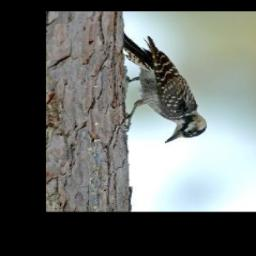Woodpecker: (114, 30, 209, 144)
